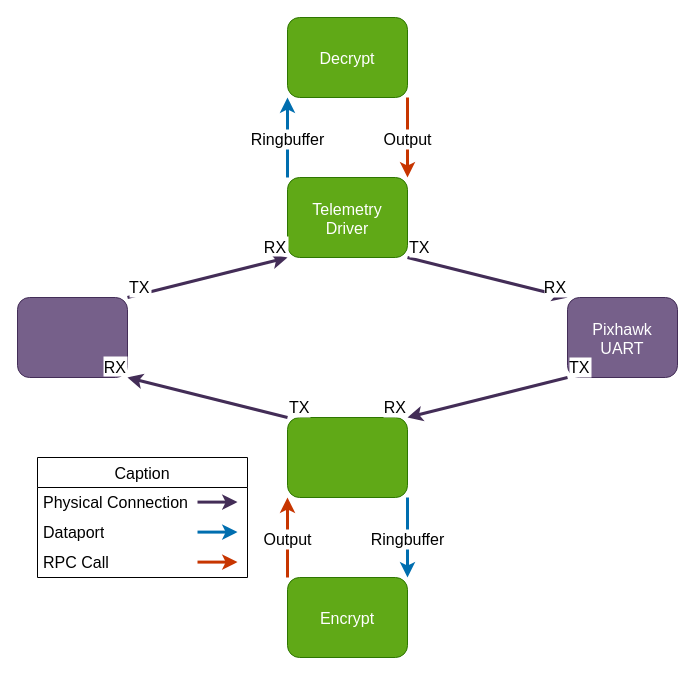
Some shapes in this 695 by 675 pixel diagram are drawn without their labels. Here are the shapes that lost their labels. From the top down, the centre of each, then its label:
the point at 72,337: 3DR Telemetry
the point at 347,457: UART Driver
